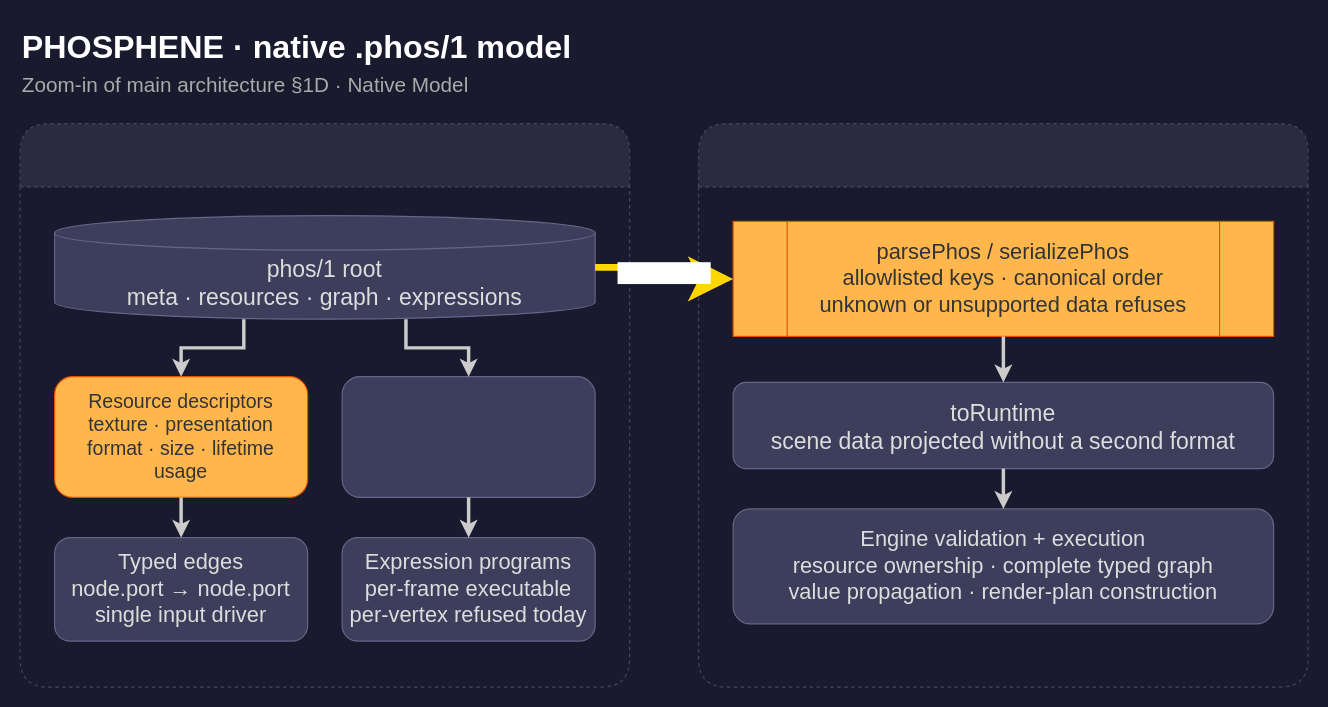
Image size: 1328x707. Some labels were removed from this diagram. Here are the shapes that lost their labels. From the top down, the box of each, then its label:
(19, 122, 630, 687): STRICT DOCUMENT
(697, 122, 1308, 687): RUNTIME PROJECTION
(341, 375, 595, 497): Nodes + local ports primitive · op constants · refs
